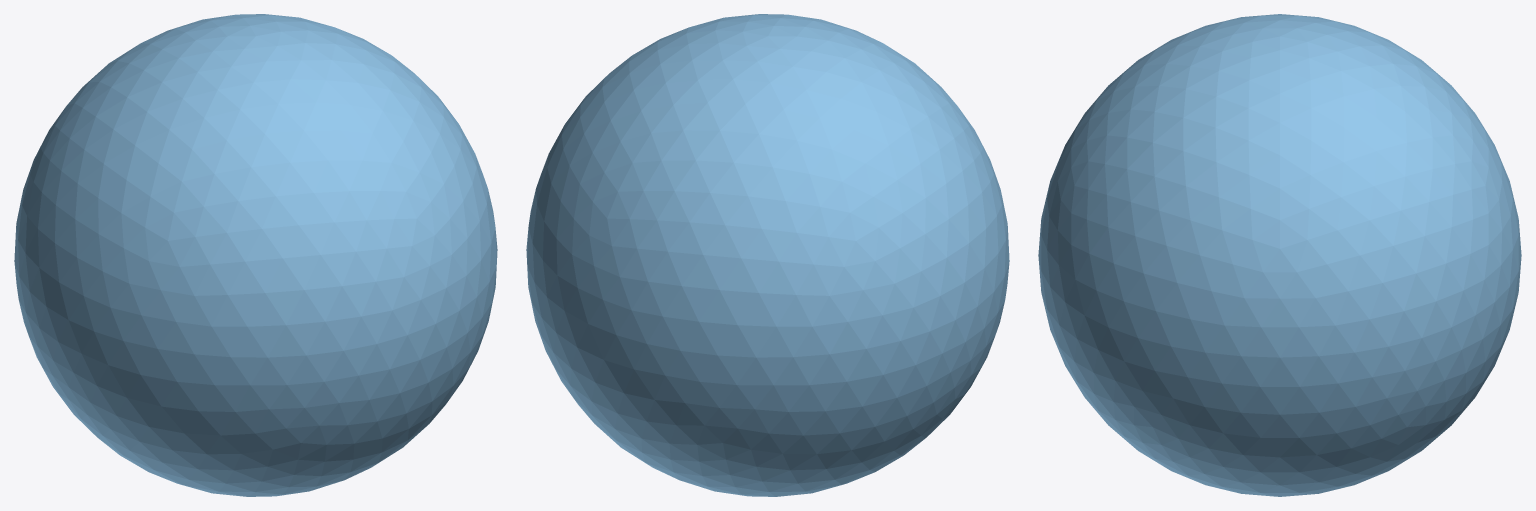
File: bubble.glb
3 renders of one model, left to right at view 1: azimuth 30°, elevation 25°; view 2: azimuth 150°, elevation 25°; view 3: azimuth 270°, elevation 25°, orthographic.
Parts seen in each view (by area): view 1: Bubble; view 2: Bubble; view 3: Bubble.
Part boxes in pixels (box(x1,y1,x2,y2)): Bubble: box(14, 14, 497, 496); Bubble: box(526, 14, 1009, 496); Bubble: box(1038, 14, 1521, 496).
Bounding box in the file's own units: 0.1161 × 0.1161 × 0.1161.
